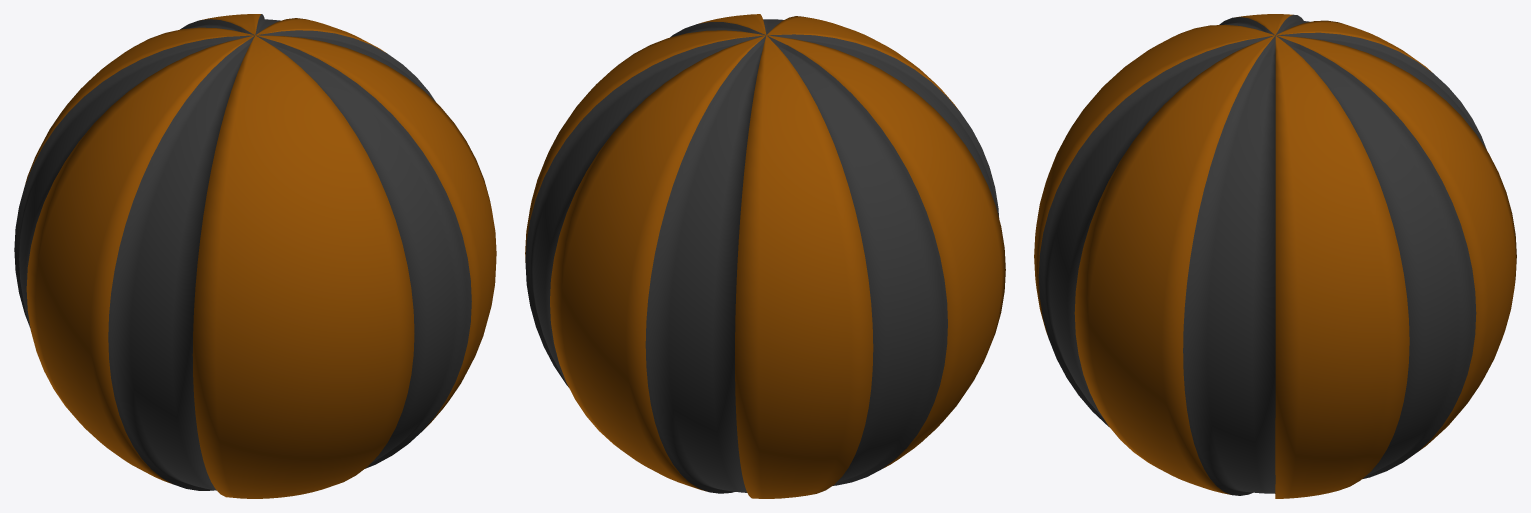
File: bask.fbx
3 renders of one model, left to right at view 1: azimuth 30°, elevation 25°; view 2: azimuth 150°, elevation 25°; view 3: azimuth 270°, elevation 25°, orthographic.
Visible parts, largest first — view 1: Сфера; view 2: Сфера; view 3: Сфера.
Boxes of the visible parts, <box> form: Сфера: <box>14,14,496,498</box>; Сфера: <box>525,14,1005,498</box>; Сфера: <box>1034,14,1516,498</box>.
Bounding box in the file's own units: 197 × 200 × 197.
